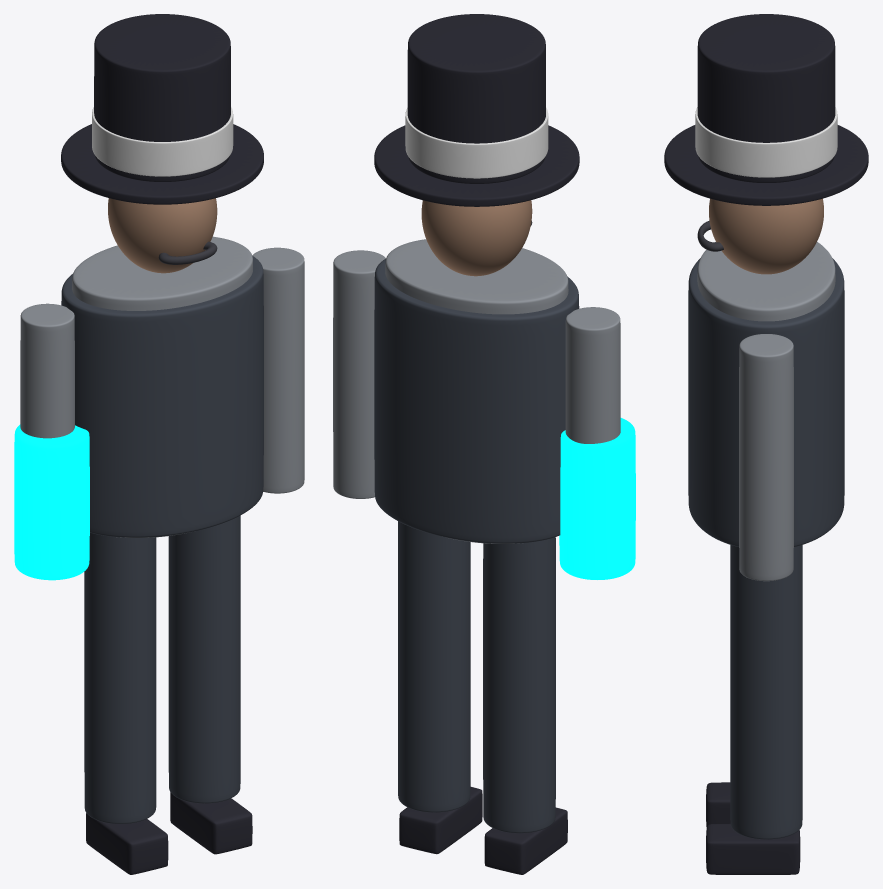
The model's file is SK_DarrellXGen.fbx.
3 renders of one model, left to right at view 1: azimuth 30°, elevation 25°; view 2: azimuth 150°, elevation 25°; view 3: azimuth 270°, elevation 25°, orthographic.
Visible parts, largest first — view 1: SM_Darrell_PinstripeVest, SM_Darrell_PinstripeTrousers_R, SM_Darrell_PinstripeTrousers_L, SM_Darrell_TopHat_VelvetCrown, SM_Darrell_GodHand_Gauntlet, SM_Darrell_ShirtSleeve_L, SM_Darrell_GreyCollaredShirt, SM_Darrell_ShirtSleeve_R, SM_Darrell_TopHat_CurvedBrim, SM_Darrell_Head, SM_Darrell_TopHat_RainbowLED_EQ, SM_Darrell_DressBoot_L (+2 smaller); view 2: SM_Darrell_PinstripeVest, SM_Darrell_PinstripeTrousers_R, SM_Darrell_PinstripeTrousers_L, SM_Darrell_TopHat_VelvetCrown, SM_Darrell_GodHand_Gauntlet, SM_Darrell_ShirtSleeve_L, SM_Darrell_GreyCollaredShirt, SM_Darrell_ShirtSleeve_R, SM_Darrell_TopHat_CurvedBrim, SM_Darrell_Head, SM_Darrell_TopHat_RainbowLED_EQ, SM_Darrell_DressBoot_L (+1 smaller); view 3: SM_Darrell_PinstripeVest, SM_Darrell_PinstripeTrousers_L, SM_Darrell_TopHat_VelvetCrown, SM_Darrell_ShirtSleeve_L, SM_Darrell_GreyCollaredShirt, SM_Darrell_TopHat_CurvedBrim, SM_Darrell_Head, SM_Darrell_TopHat_RainbowLED_EQ, SM_Darrell_DressBoot_L, SM_Darrell_DressBoot_R.
Part boxes in pixels (x1,y1,x2,y2): SM_Darrell_PinstripeVest: [61, 256, 263, 537]; SM_Darrell_PinstripeTrousers_R: [84, 533, 156, 823]; SM_Darrell_PinstripeTrousers_L: [168, 515, 240, 803]; SM_Darrell_TopHat_VelvetCrown: [94, 14, 230, 181]; SM_Darrell_GodHand_Gauntlet: [14, 424, 89, 580]; SM_Darrell_ShirtSleeve_L: [252, 247, 304, 493]; SM_Darrell_GreyCollaredShirt: [72, 236, 252, 537]; SM_Darrell_ShirtSleeve_R: [20, 303, 74, 438]; SM_Darrell_TopHat_CurvedBrim: [61, 124, 263, 204]; SM_Darrell_Head: [108, 198, 217, 273]; SM_Darrell_TopHat_RainbowLED_EQ: [92, 107, 233, 176]; SM_Darrell_DressBoot_L: [170, 792, 252, 854]; SM_Darrell_PinstripeVest: [374, 258, 579, 543]; SM_Darrell_PinstripeTrousers_R: [483, 537, 555, 833]; SM_Darrell_PinstripeTrousers_L: [398, 521, 470, 812]; SM_Darrell_TopHat_VelvetCrown: [407, 14, 545, 183]; SM_Darrell_GodHand_Gauntlet: [559, 418, 635, 579]; SM_Darrell_ShirtSleeve_L: [333, 250, 385, 498]; SM_Darrell_GreyCollaredShirt: [385, 239, 568, 543]; SM_Darrell_ShirtSleeve_R: [565, 307, 620, 443]; SM_Darrell_TopHat_CurvedBrim: [374, 125, 579, 206]; SM_Darrell_Head: [421, 200, 532, 276]; SM_Darrell_TopHat_RainbowLED_EQ: [405, 107, 548, 178]; SM_Darrell_DressBoot_L: [399, 787, 482, 854]; SM_Darrell_PinstripeVest: [688, 258, 844, 546]; SM_Darrell_PinstripeTrousers_L: [730, 545, 802, 839]; SM_Darrell_TopHat_VelvetCrown: [697, 14, 835, 182]; SM_Darrell_ShirtSleeve_L: [739, 334, 793, 581]; SM_Darrell_GreyCollaredShirt: [697, 242, 835, 321]; SM_Darrell_TopHat_CurvedBrim: [664, 125, 868, 205]; SM_Darrell_Head: [709, 198, 823, 274]; SM_Darrell_TopHat_RainbowLED_EQ: [695, 107, 837, 177]; SM_Darrell_DressBoot_L: [706, 823, 800, 874]; SM_Darrell_DressBoot_R: [706, 782, 730, 827].
Size of the model in its own units: 0.7471 by 0.4592 by 1.99.
